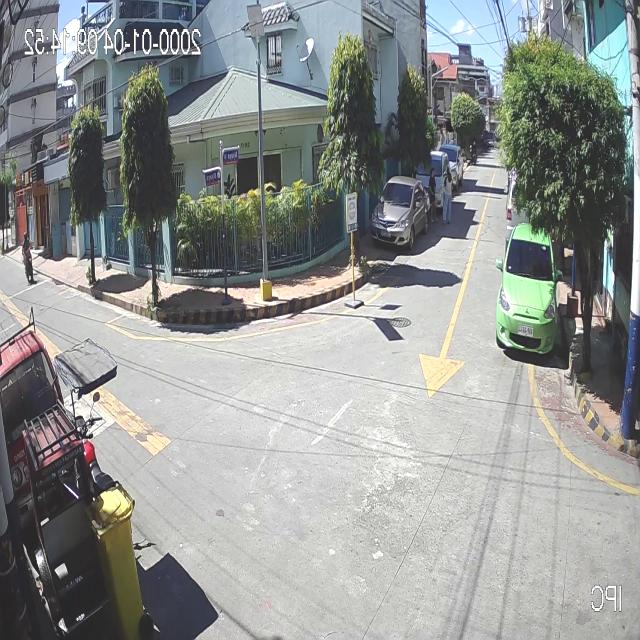walking: (427, 165, 439, 225), (441, 164, 452, 227)
